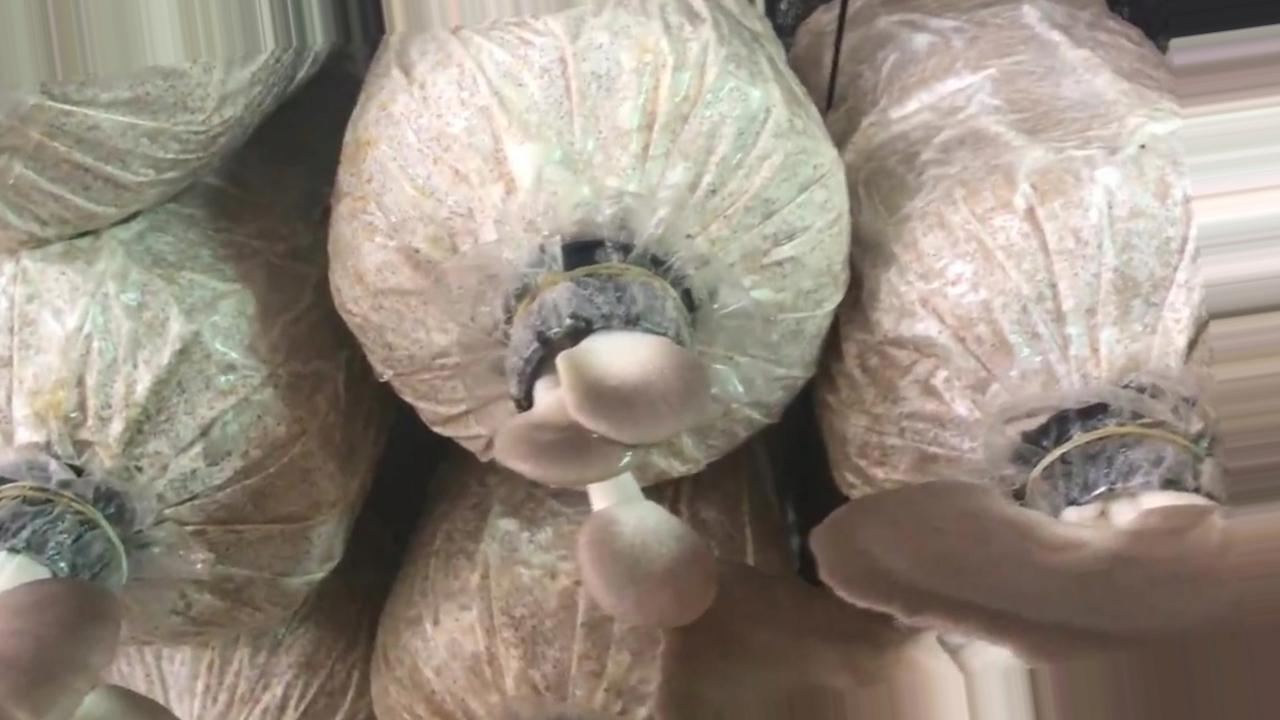nam: (659, 432, 1280, 717), (497, 267, 716, 627), (1, 482, 119, 720)
